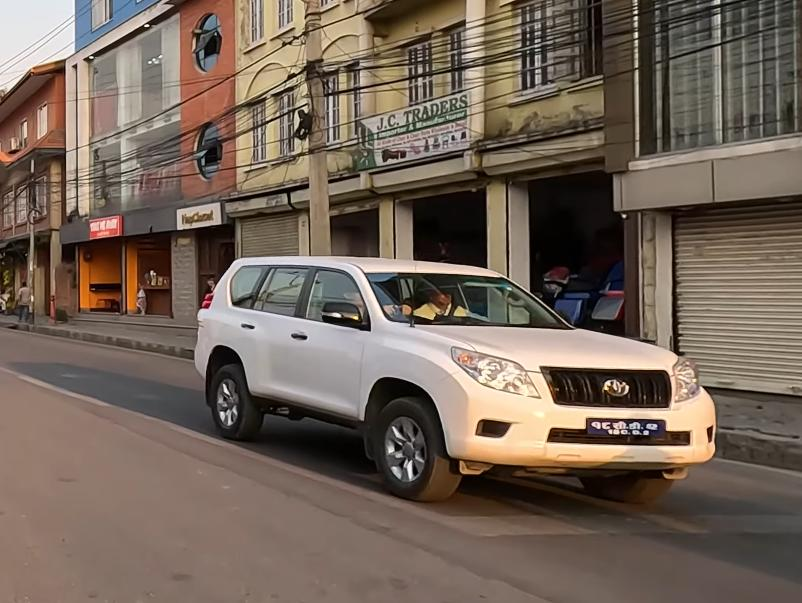SUV: (178, 249, 728, 523)
